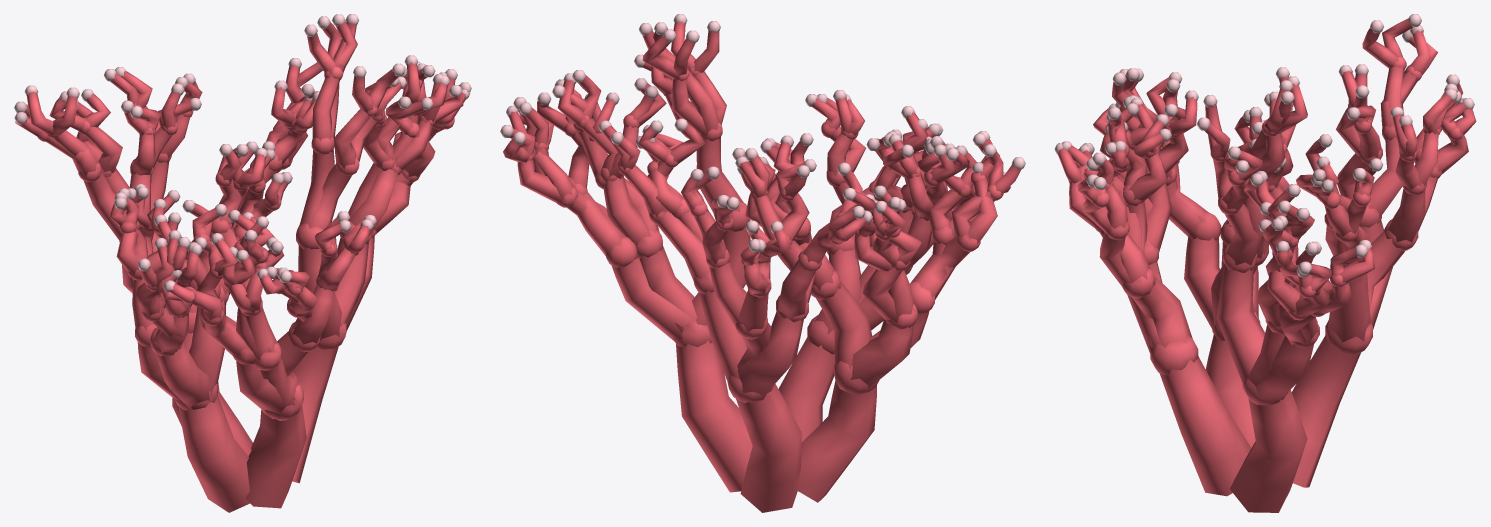
The model's file is coral_staghorn.glb.
3 views of the same model, side by side, from view 1: azimuth 30°, elevation 25°; view 2: azimuth 150°, elevation 25°; view 3: azimuth 270°, elevation 25° (orthographic). The views are drawn at different scales.
Visible parts, largest first — view 1: coral_staghorn_mesh; view 2: coral_staghorn_mesh; view 3: coral_staghorn_mesh.
Part boxes in pixels (x1,y1,x2,y2): coral_staghorn_mesh: (14, 14, 471, 512); coral_staghorn_mesh: (500, 14, 1025, 512); coral_staghorn_mesh: (1054, 14, 1476, 512).
Size of the model in its own units: 1.2 by 1.22 by 1.
